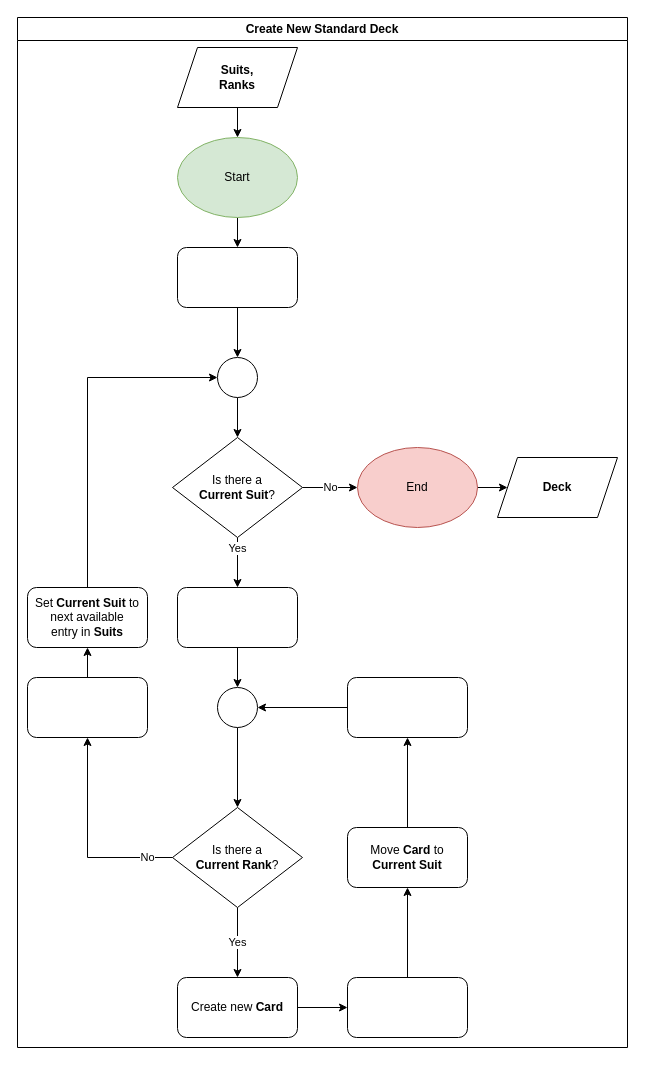
Some shapes in this 645 by 1065 pixel diagram are drawn without their labels. Each missing label, with the centre of its shape:
Add Current Suit to Deck: the point at 87,707
Set Card: Rank to Current Rank: the point at 407,1007
Set Current Rank to lowest entry in Ranks: the point at 237,617
Set Current Rank to next available entry in Ranks: the point at 407,707
Set Current Suit to first entry in Suits: the point at 237,277
